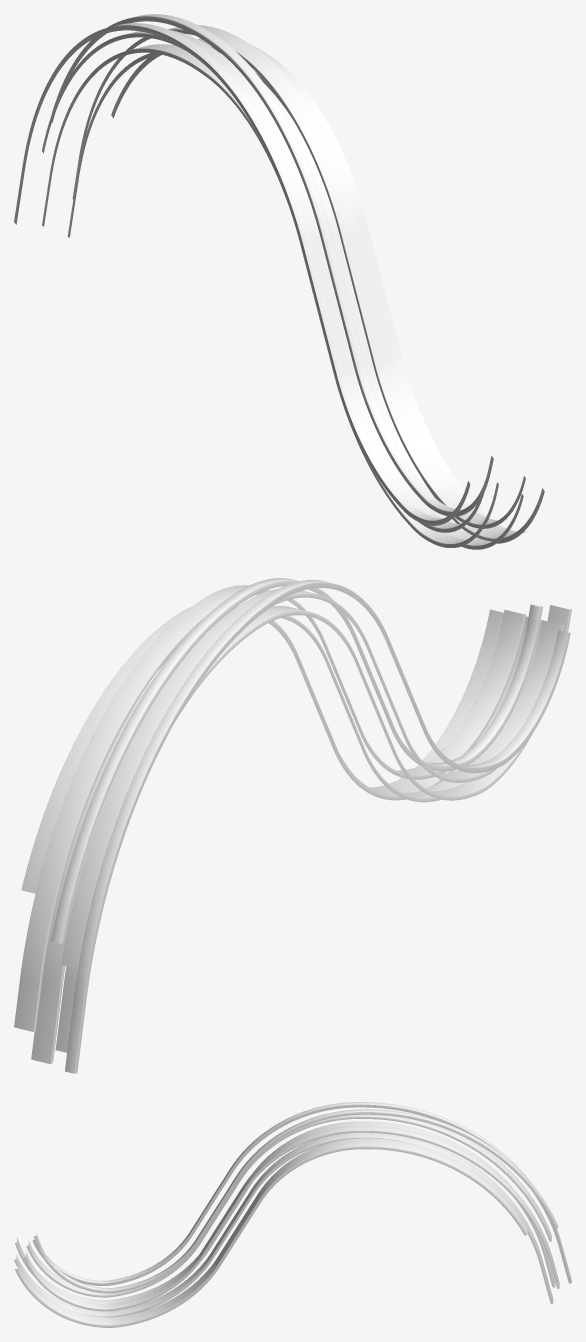
Rendered from CEREBRIUM_part2_4_optimization.glb.
The picture shows the model from 3 angles, top to bottom: view 1: azimuth 30°, elevation 25°; view 2: azimuth 150°, elevation 25°; view 3: azimuth 270°, elevation 25°; orthographic projection. The views are drawn at different scales.
Parts seen in each view (by area): view 1: pathA, pathD, pathC, pathF, pathE, pathB, pathG; view 2: pathA, pathD, pathF, pathC, pathE, pathB, pathG; view 3: pathE, pathA, pathB, pathC, pathD, pathF, pathG.
Part boxes in pixels (x1=…): pathA: x1=72, y1=25, x2=525, y2=528; pathD: x1=14, y1=23, x2=470, y2=525; pathC: x1=51, y1=14, x2=493, y2=516; pathF: x1=42, y1=30, x2=486, y2=532; pathE: x1=111, y1=38, x2=544, y2=543; pathB: x1=67, y1=53, x2=523, y2=549; pathG: x1=42, y1=44, x2=498, y2=547; pathA: x1=14, y1=585, x2=526, y2=1031; pathD: x1=65, y1=580, x2=570, y2=1073; pathF: x1=61, y1=589, x2=564, y2=968; pathC: x1=51, y1=578, x2=542, y2=943; pathE: x1=21, y1=606, x2=503, y2=893; pathB: x1=31, y1=611, x2=542, y2=1064; pathG: x1=55, y1=605, x2=571, y2=1052; pathE: x1=15, y1=1138, x2=527, y2=1327; pathA: x1=23, y1=1125, x2=559, y2=1311; pathB: x1=14, y1=1132, x2=553, y2=1317; pathC: x1=34, y1=1109, x2=558, y2=1293; pathD: x1=32, y1=1102, x2=571, y2=1285; pathF: x1=26, y1=1114, x2=551, y2=1297; pathG: x1=15, y1=1121, x2=555, y2=1303.
Bounding box in the file's own units: 0.9561 × 3.58 × 9.02.
1 material, 1 textured.
